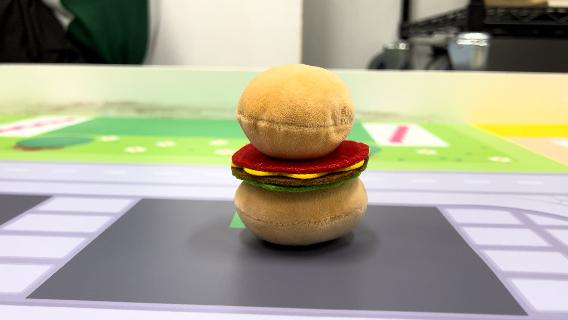burger: (228, 61, 374, 248)
